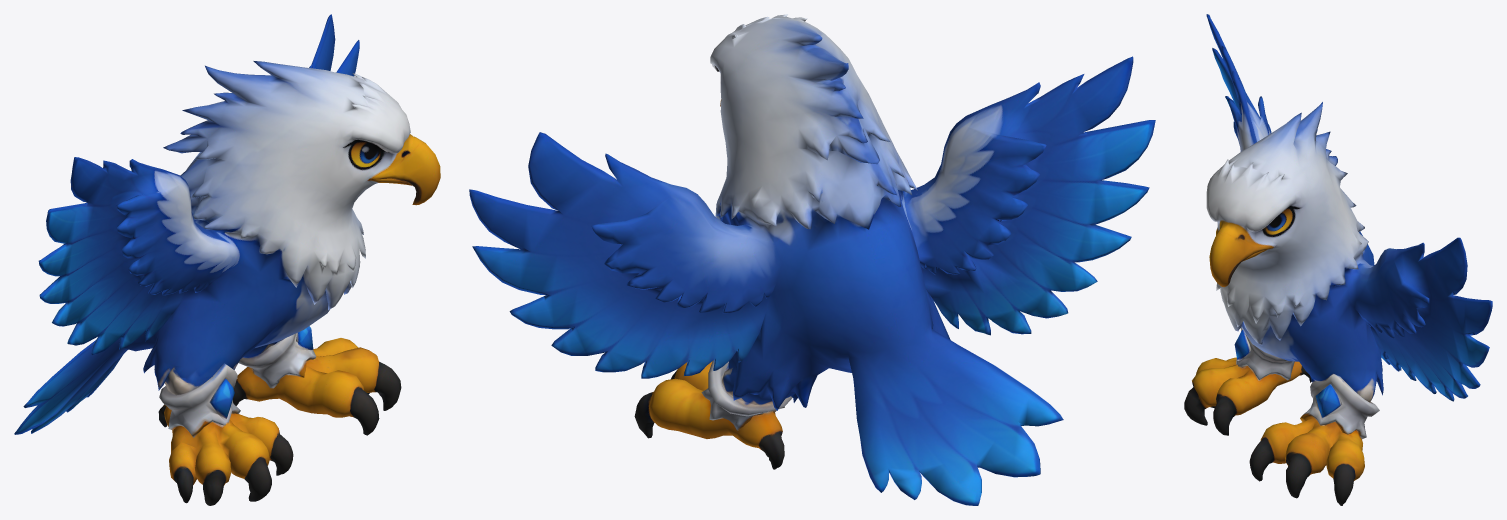
Rendered from ravenclaw-2.glb.
The picture shows the model from 3 angles, left to right: view 1: azimuth 30°, elevation 25°; view 2: azimuth 150°, elevation 25°; view 3: azimuth 270°, elevation 25°; orthographic projection. The views are drawn at different scales.
Parts seen in each view (by area): view 1: tripo_node_8d76522c-240e-4f68-bc91-05acfb517e6e; view 2: tripo_node_8d76522c-240e-4f68-bc91-05acfb517e6e; view 3: tripo_node_8d76522c-240e-4f68-bc91-05acfb517e6e.
Part boxes in pixels (left/top/right/bottom): tripo_node_8d76522c-240e-4f68-bc91-05acfb517e6e: left=14, top=14, right=440, bottom=505; tripo_node_8d76522c-240e-4f68-bc91-05acfb517e6e: left=469, top=14, right=1155, bottom=505; tripo_node_8d76522c-240e-4f68-bc91-05acfb517e6e: left=1184, top=14, right=1492, bottom=505.
Size of the model in its own units: 0.998 by 0.7793 by 0.6465.
Materials: 1 (1 with a texture image).
